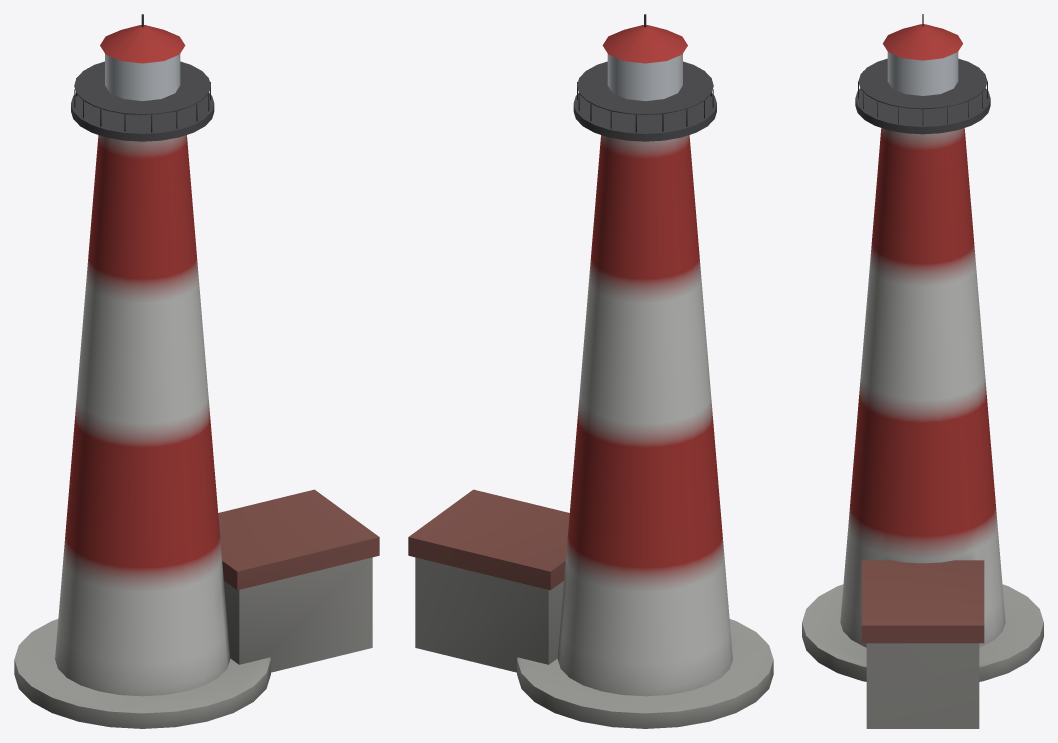
File: leuchtturm.glb
The picture shows the model from 3 angles, left to right: view 1: azimuth 30°, elevation 25°; view 2: azimuth 150°, elevation 25°; view 3: azimuth 270°, elevation 25°; orthographic projection. The views are drawn at different scales.
Visible parts, largest first — view 1: lack, glas; view 2: lack, glas; view 3: lack, glas.
Boxes of the visible parts, x1,y1,x2,y2 form: lack: (14, 14, 379, 728); glas: (105, 54, 180, 101); lack: (408, 14, 773, 728); glas: (607, 54, 682, 101); lack: (802, 14, 1043, 728); glas: (887, 52, 958, 95).
Size of the model in its own units: 21.3 by 42.6 by 15.
